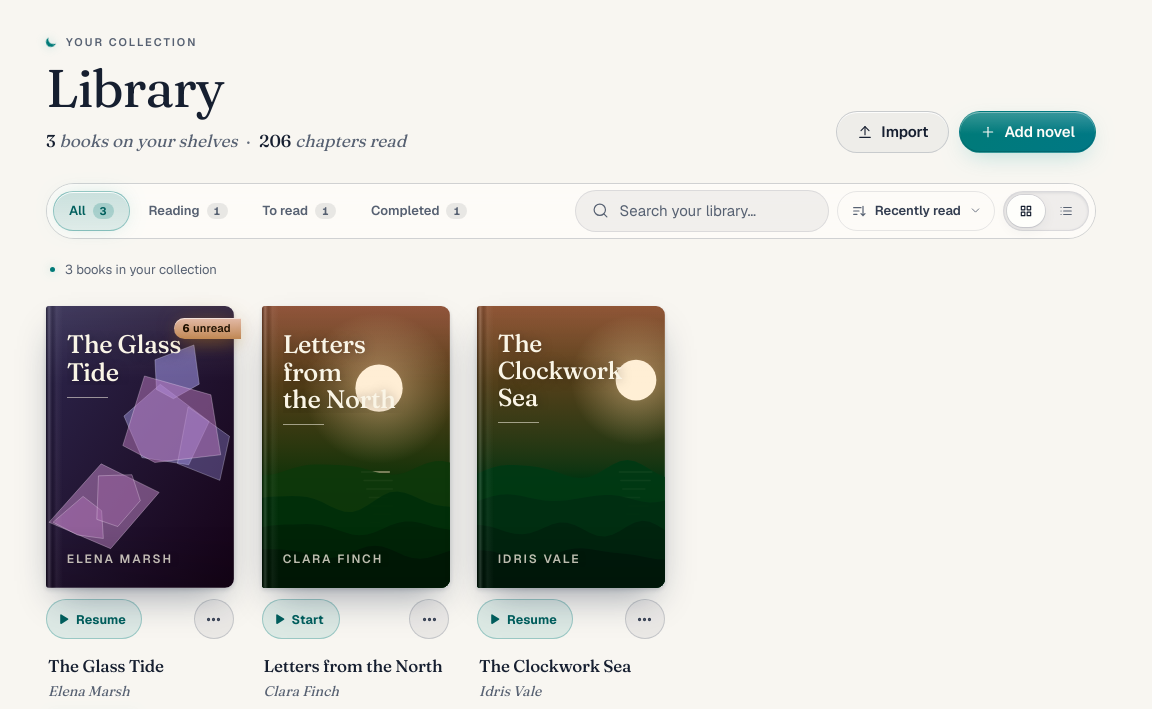
it: Library › rolls a failed shelf move back and says why
The width and height of the screenshot is (1152, 709).
Click the tab "Reading 1": [188, 211] box [133,191,244,231]
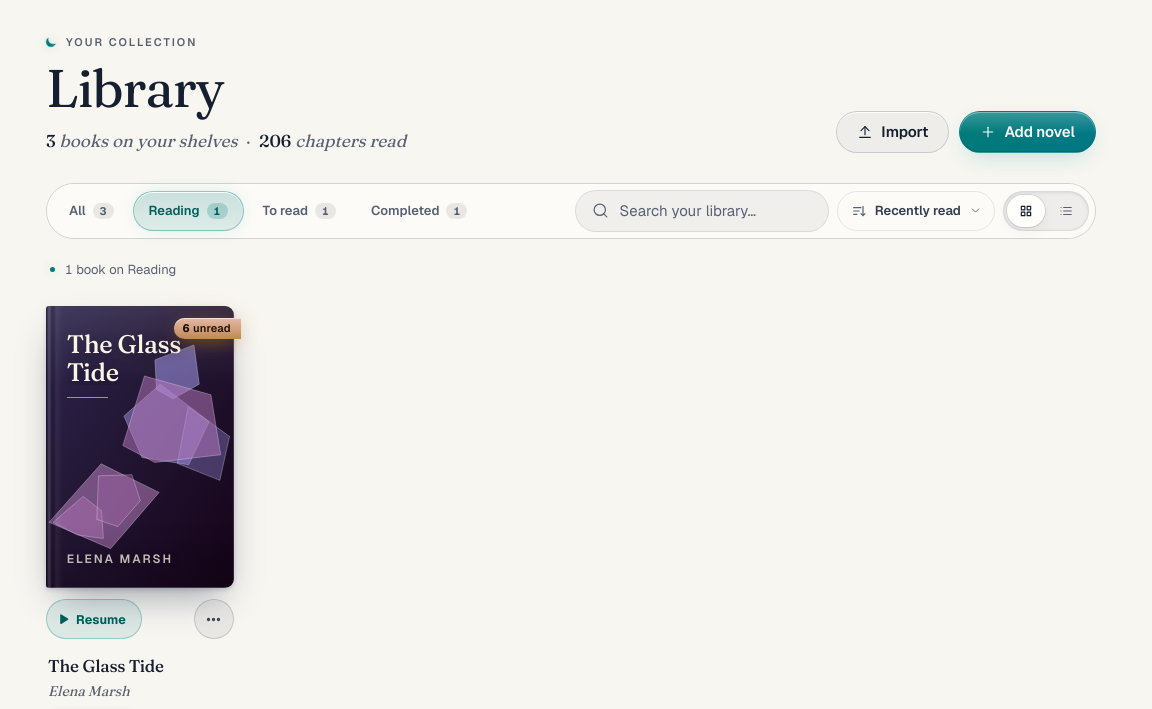
Click the button named "Shelf menu": [214, 620] box [194,600,234,640]
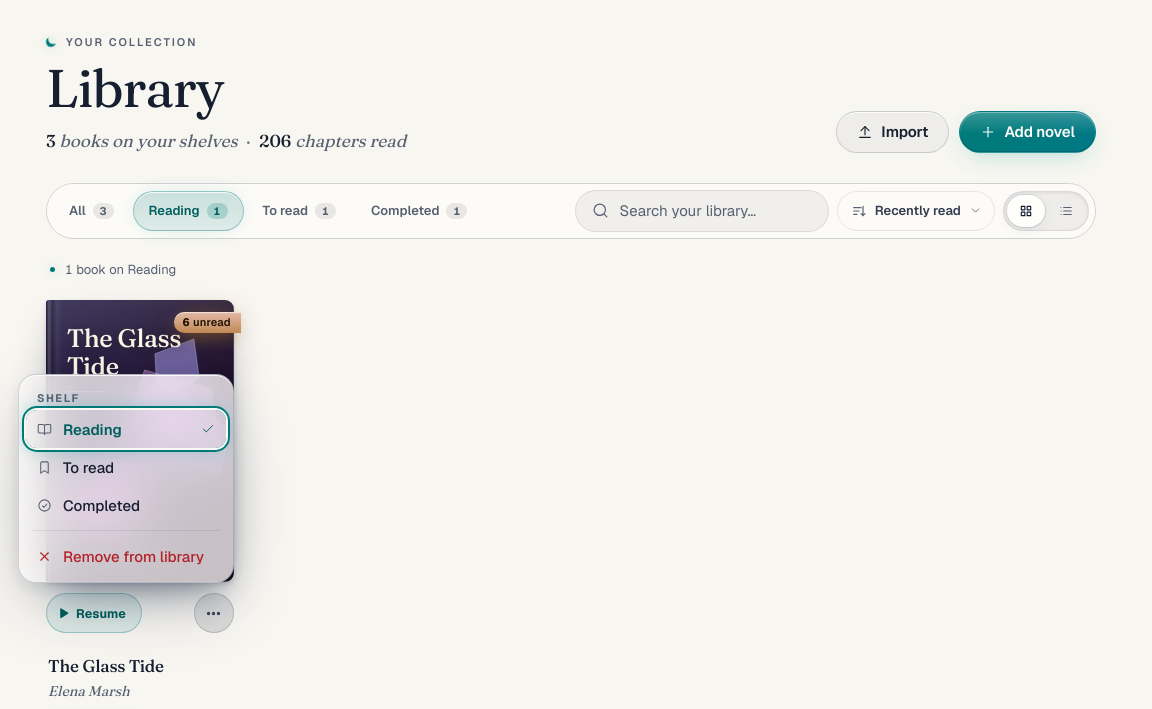
Click the menu item "To read": [126, 468] box [26,448,226,486]
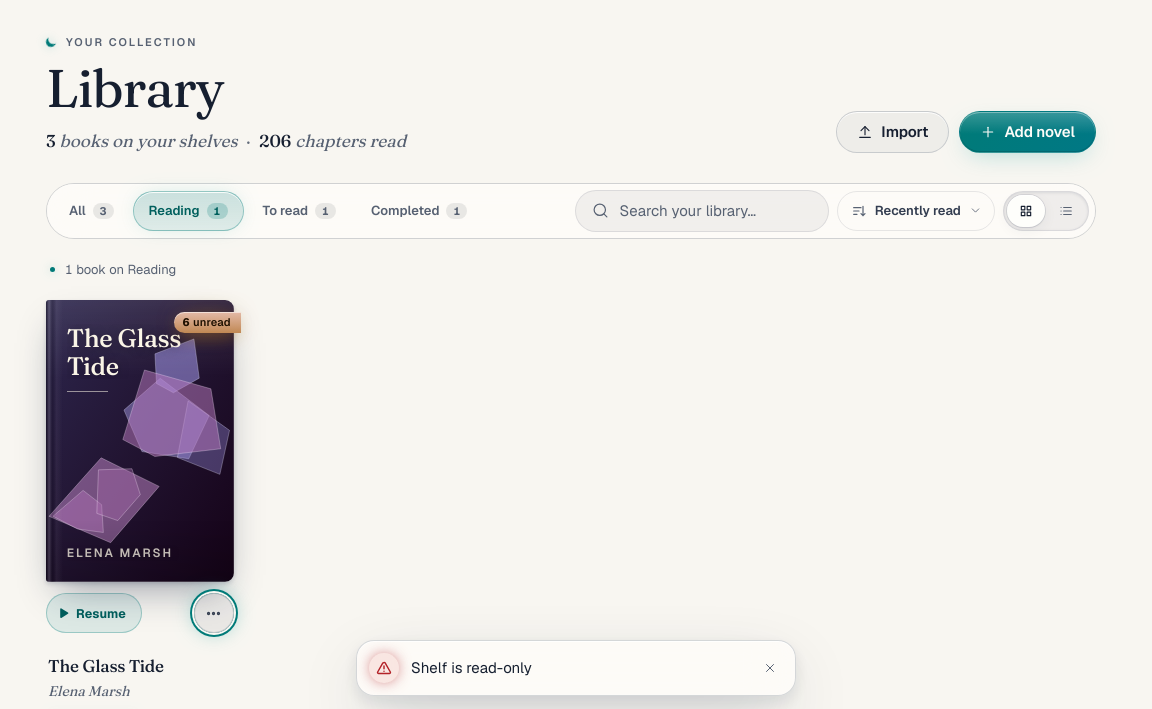
Expected: the text "Shelf is read-only" is shown, [411,658,532,677]
